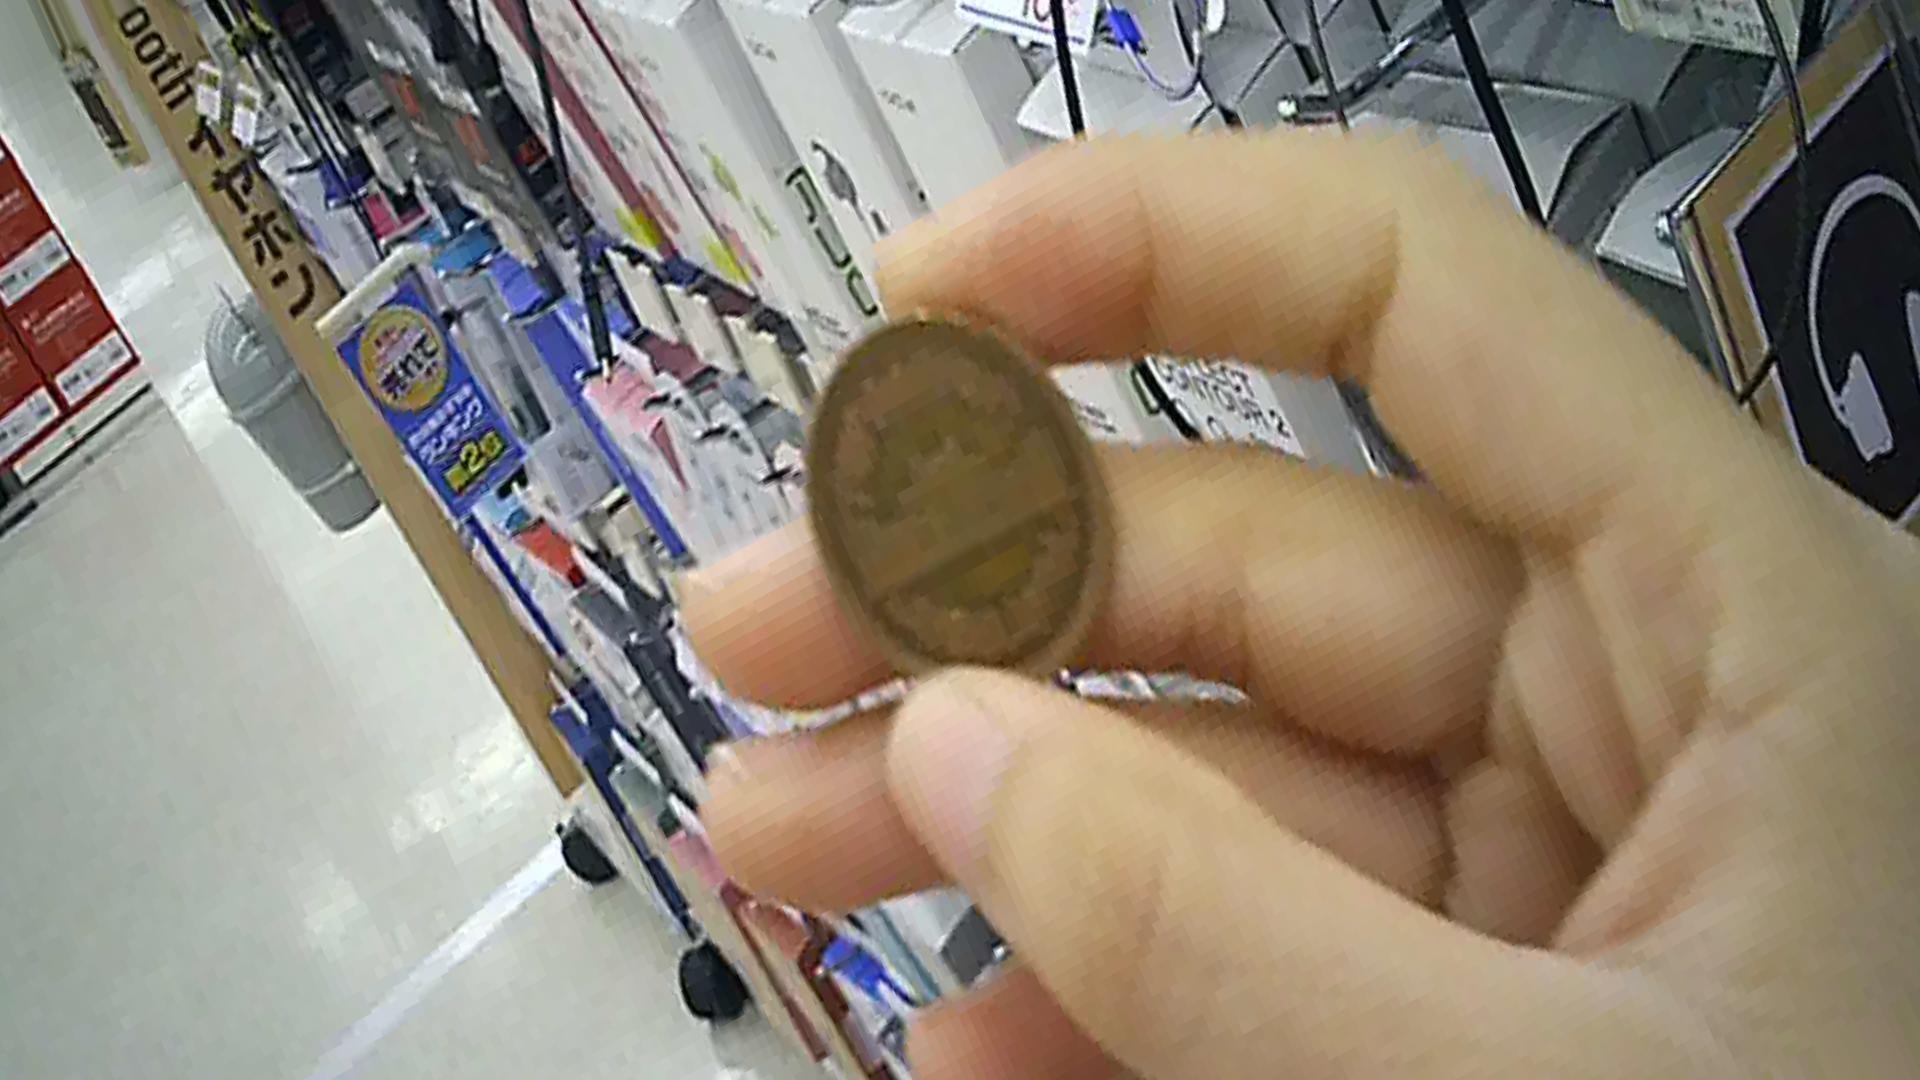10 Yen: (779, 311, 1120, 688)
